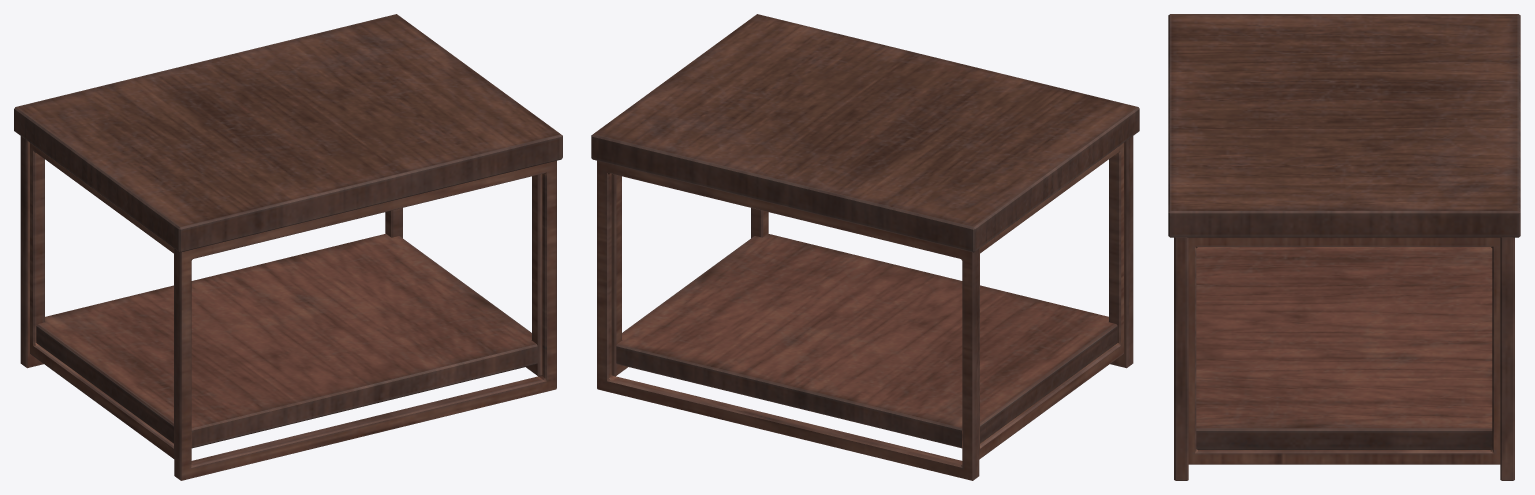
Rendered from Side Table 4.FBX.
3 views of the same model, side by side, from view 1: azimuth 30°, elevation 25°; view 2: azimuth 150°, elevation 25°; view 3: azimuth 270°, elevation 25° (orthographic). The views are drawn at different scales.
Parts seen in each view (by area): view 1: Box493; view 2: Box493; view 3: Box493.
Boxes of the visible parts, x1,y1,x2,y2 form: Box493: [14, 14, 562, 480]; Box493: [591, 14, 1139, 480]; Box493: [1168, 14, 1520, 480].
Bounding box in the file's own units: 80 × 51.03 × 60.
